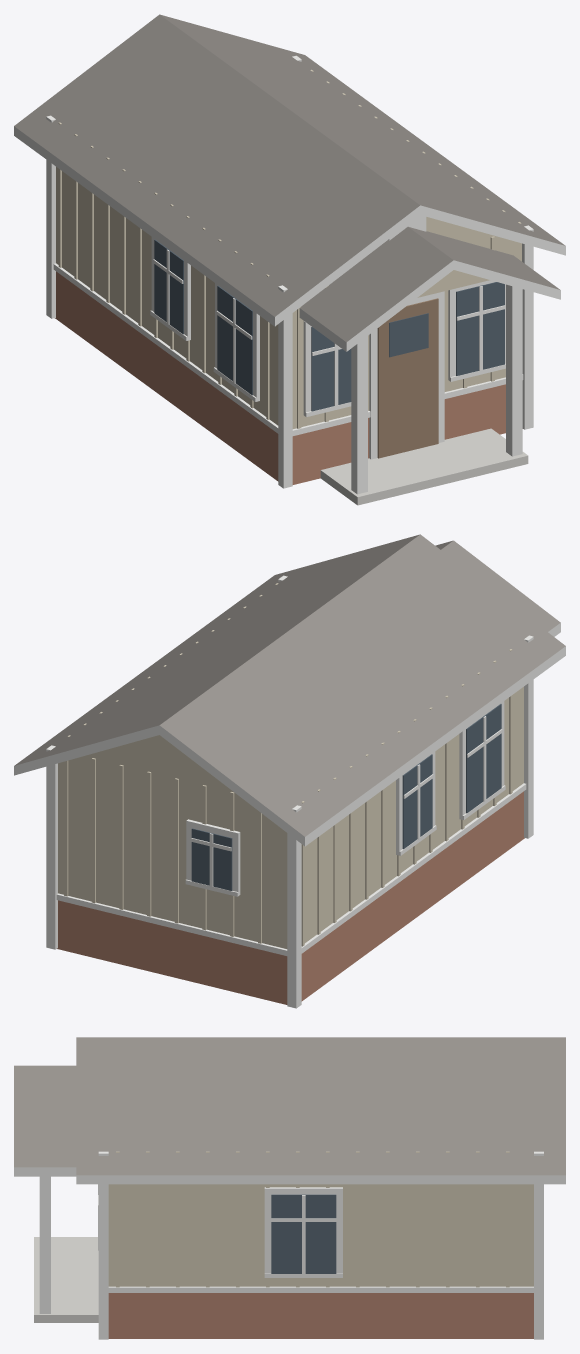
File: pocket-craftsman.glb
3 renders of one model, top to bottom at view 1: azimuth 30°, elevation 25°; view 2: azimuth 150°, elevation 25°; view 3: azimuth 270°, elevation 25°, orthographic. The views are drawn at different scales.
Parts seen in each view (by area): view 1: The Pocket (craftsman); view 2: The Pocket (craftsman); view 3: The Pocket (craftsman).
Boxes of the visible parts, box(x1,y1,x2,y2) form: The Pocket (craftsman): box(14, 14, 565, 505); The Pocket (craftsman): box(14, 534, 565, 1008); The Pocket (craftsman): box(14, 1037, 565, 1339).
Size of the model in its own units: 4.42 by 3.81 by 7.73.
